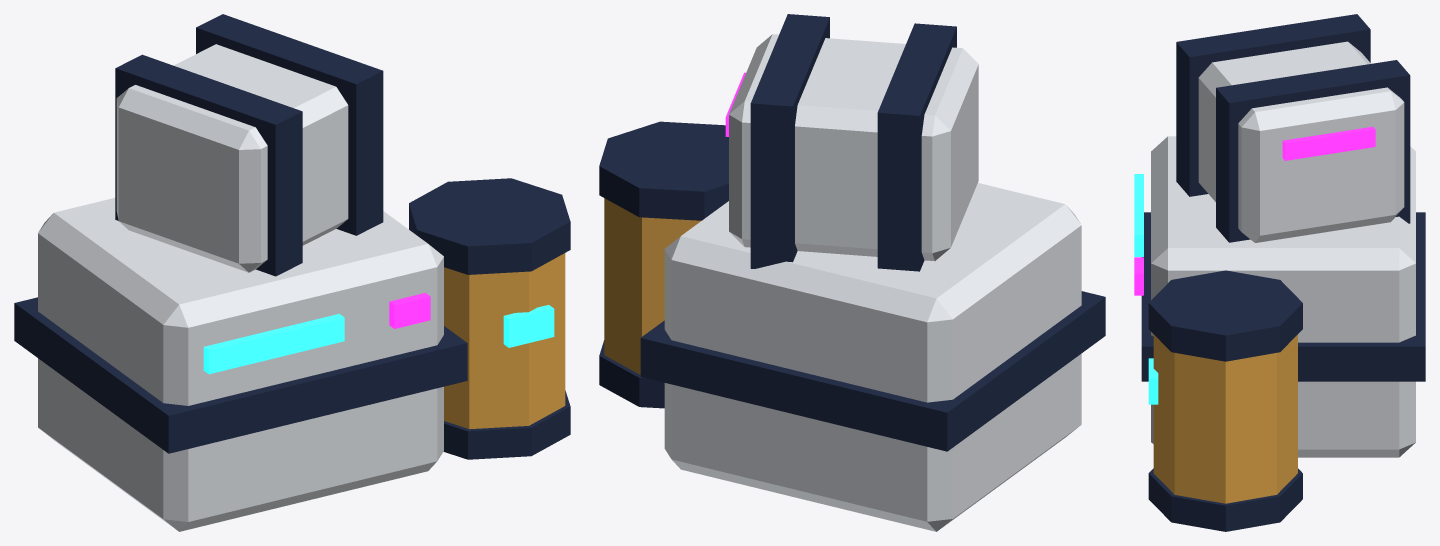
The model's file is cargo_crates.glb.
3 views of the same model, side by side, from view 1: azimuth 30°, elevation 25°; view 2: azimuth 150°, elevation 25°; view 3: azimuth 270°, elevation 25° (orthographic). The views are drawn at different scales.
Visible parts, largest first — view 1: cargo_crates; view 2: cargo_crates; view 3: cargo_crates.
Part boxes in pixels (bbox=[...]): cargo_crates: bbox=[14, 14, 570, 531]; cargo_crates: bbox=[599, 14, 1105, 531]; cargo_crates: bbox=[1134, 14, 1425, 531].
Bounding box in the file's own units: 0.97 × 0.8 × 0.605.
